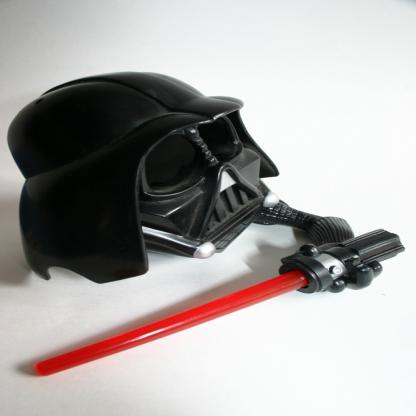Helmet: (2, 70, 333, 270)
